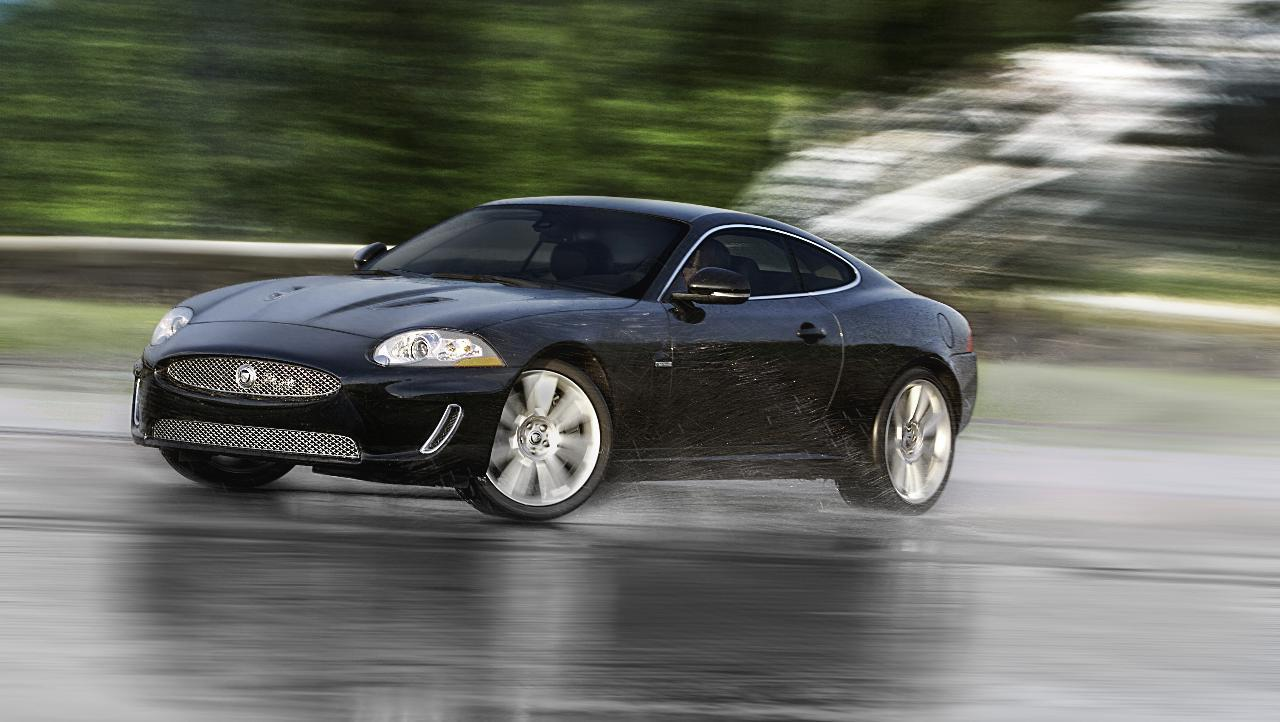Car: (111, 165, 1028, 543)
